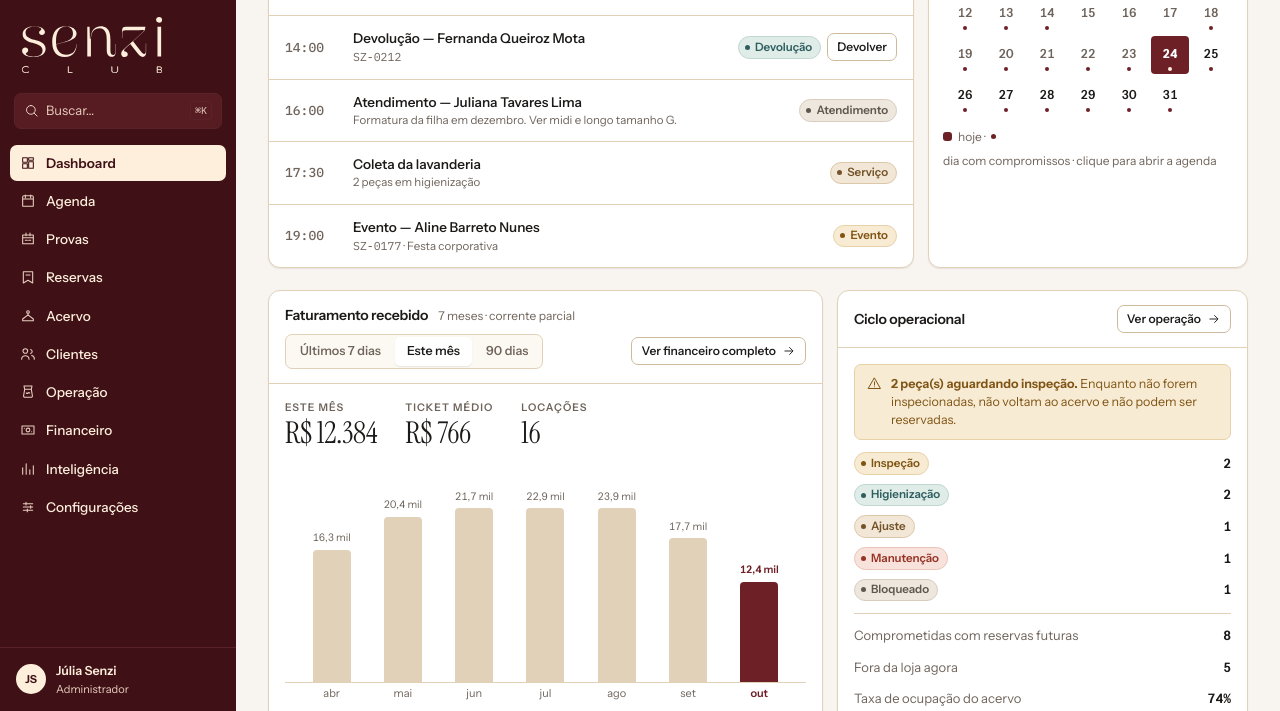
Test: Dashboard — faturamento e perfis › Administrador vê faturamento com ticket médio, locações e troca de período
(page scrolled)
Expected: the text "Ticket médio" is shown, top-left (405, 400), bottom-right (493, 416)
Expected: the text "Locações" is shown, top-left (521, 400), bottom-right (587, 416)
Click the button "Últimos 7 dias" at (340, 352), box top-left (288, 337), bottom-right (393, 366)
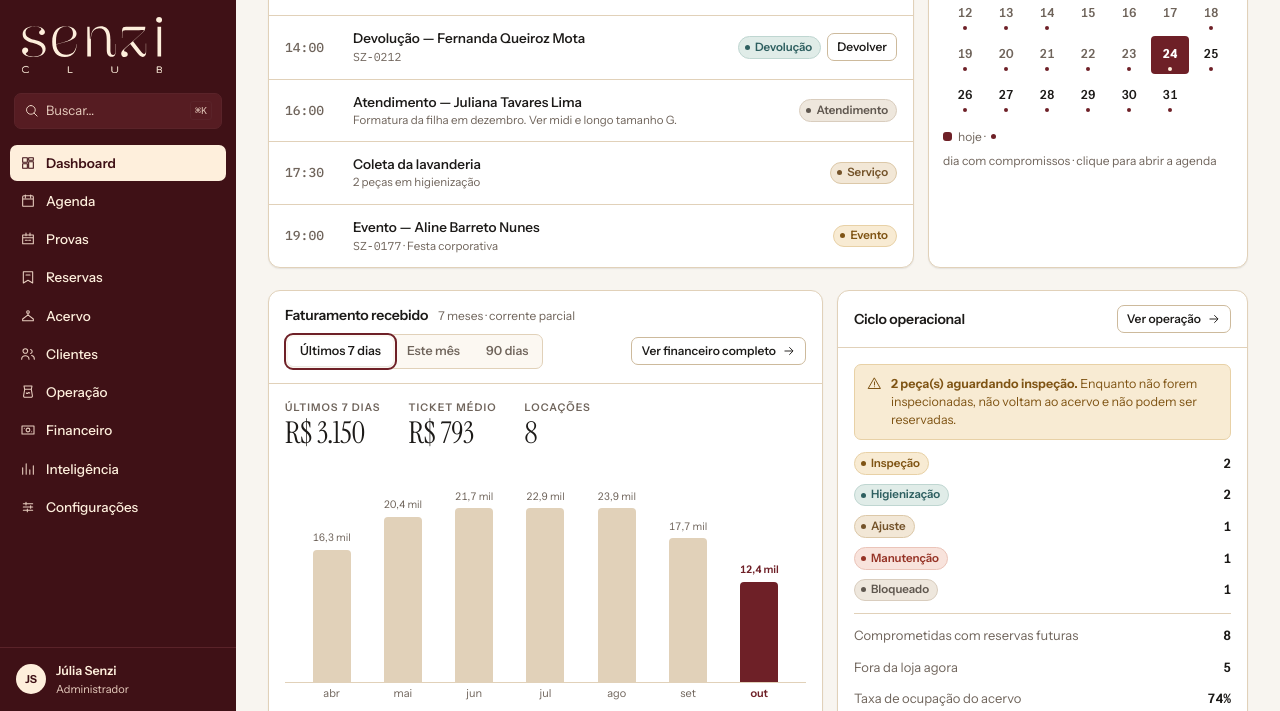
Expected: the text "Últimos 7 dias" is shown, top-left (285, 400), bottom-right (380, 416)
